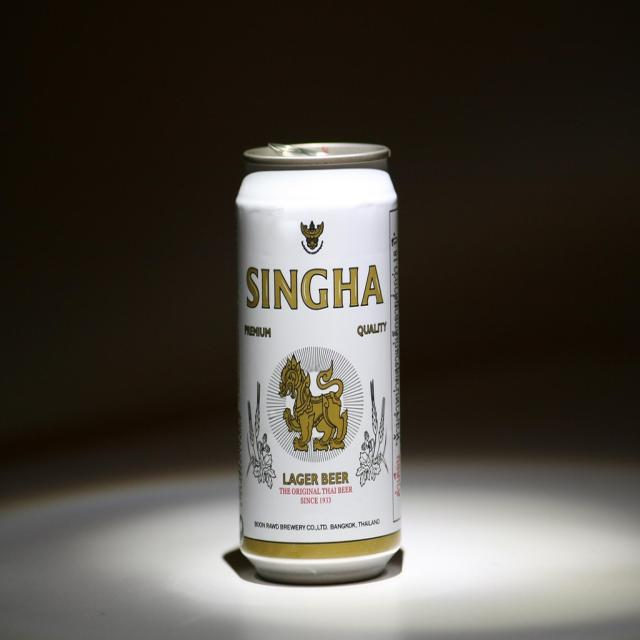singha: (238, 254, 393, 511)
